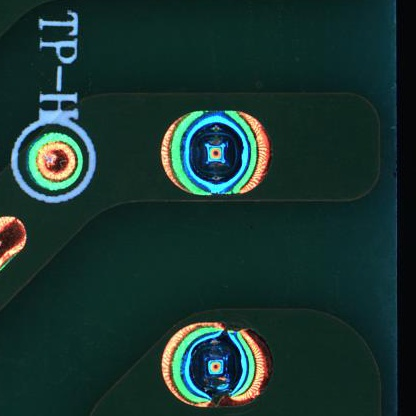spot: (150, 91, 301, 217), (152, 310, 285, 414), (21, 127, 88, 193)
